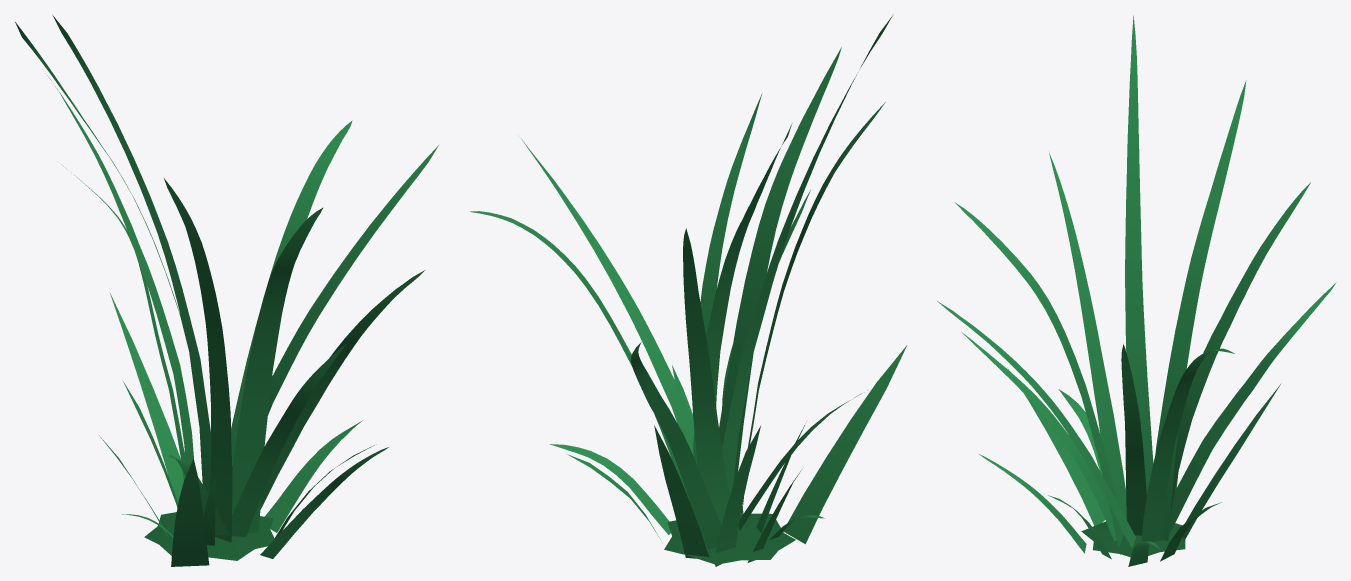
Rendered from plant_bush_B.fbx.
The picture shows the model from 3 angles, left to right: view 1: azimuth 30°, elevation 25°; view 2: azimuth 150°, elevation 25°; view 3: azimuth 270°, elevation 25°; orthographic projection. The views are drawn at different scales.
Visible parts, largest first — view 1: plant_bush_B_leaf_I, plant_bush_B_leaf_C, plant_bush_B_leaf_D, plant_bush_B_leaf_L, plant_bush_B_leaf_A, plant_bush_B_leaf_P, plant_bush_B_leaf_small_K, plant_bush_B_leaf_J, plant_bush_B_leaf_B, plant_bush_B_leaf_small_A, plant_bush_B_base, plant_bush_B_leaf_small_G (+5 smaller); view 2: plant_bush_B_leaf_I, plant_bush_B_leaf_P, plant_bush_B_leaf_D, plant_bush_B_leaf_small_K, plant_bush_B_leaf_N, plant_bush_B_leaf_A, plant_bush_B_leaf_F, plant_bush_B_base, plant_bush_B_leaf_J, plant_bush_B_leaf_small_A, plant_bush_B_leaf_small_F, plant_bush_B_leaf_C (+3 smaller); view 3: plant_bush_B_leaf_D, plant_bush_B_leaf_F, plant_bush_B_leaf_C, plant_bush_B_leaf_P, plant_bush_B_leaf_B, plant_bush_B_leaf_N, plant_bush_B_leaf_A, plant_bush_B_leaf_I, plant_bush_B_leaf_J, plant_bush_B_leaf_L, plant_bush_B_leaf_small_K, plant_bush_B_base (+3 smaller).
Part boxes in pixels (x1,y1,x2,y2): plant_bush_B_leaf_I: [232, 207, 323, 533]; plant_bush_B_leaf_C: [164, 178, 232, 542]; plant_bush_B_leaf_D: [52, 15, 210, 494]; plant_bush_B_leaf_L: [231, 344, 345, 537]; plant_bush_B_leaf_A: [232, 145, 438, 471]; plant_bush_B_leaf_P: [45, 73, 193, 466]; plant_bush_B_leaf_small_K: [171, 458, 209, 566]; plant_bush_B_leaf_J: [260, 270, 424, 509]; plant_bush_B_leaf_B: [231, 120, 352, 466]; plant_bush_B_leaf_small_A: [110, 293, 183, 503]; plant_bush_B_base: [144, 512, 274, 560]; plant_bush_B_leaf_small_G: [264, 420, 362, 532]; plant_bush_B_leaf_I: [719, 47, 841, 484]; plant_bush_B_leaf_P: [683, 228, 737, 547]; plant_bush_B_leaf_D: [722, 14, 893, 495]; plant_bush_B_leaf_small_K: [783, 345, 907, 544]; plant_bush_B_leaf_N: [631, 342, 721, 566]; plant_bush_B_leaf_A: [521, 139, 694, 455]; plant_bush_B_leaf_F: [693, 123, 792, 541]; plant_bush_B_base: [664, 513, 795, 564]; plant_bush_B_leaf_J: [700, 93, 762, 336]; plant_bush_B_leaf_small_A: [654, 425, 709, 558]; plant_bush_B_leaf_small_F: [716, 426, 760, 552]; plant_bush_B_leaf_C: [740, 102, 885, 529]; plant_bush_B_leaf_D: [1125, 15, 1153, 494]; plant_bush_B_leaf_F: [1155, 80, 1246, 540]; plant_bush_B_leaf_C: [1049, 152, 1126, 519]; plant_bush_B_leaf_P: [1170, 182, 1310, 516]; plant_bush_B_leaf_B: [1141, 348, 1234, 541]; plant_bush_B_leaf_N: [1169, 282, 1336, 533]; plant_bush_B_leaf_A: [1121, 344, 1146, 535]; plant_bush_B_leaf_I: [954, 202, 1123, 554]; plant_bush_B_leaf_J: [937, 301, 1135, 548]; plant_bush_B_leaf_L: [961, 332, 1124, 541]; plant_bush_B_leaf_small_K: [1007, 368, 1105, 525]; plant_bush_B_base: [1081, 521, 1185, 557].
Bounding box in the file's own units: 66.03 × 96.14 × 73.84.
